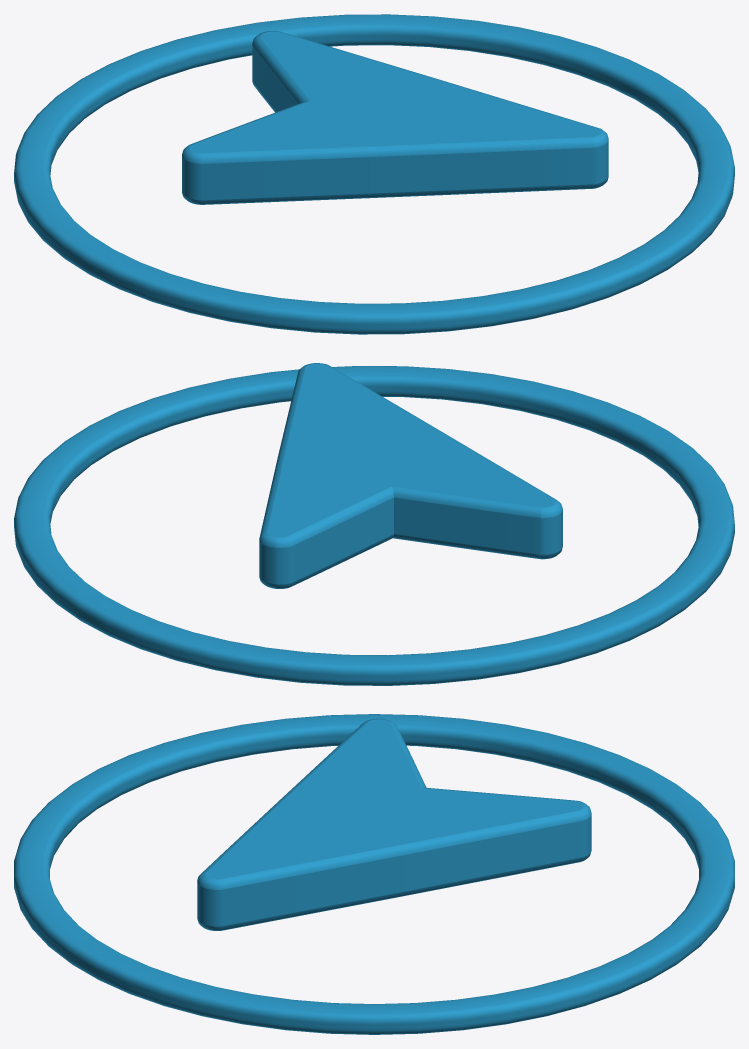
Rendered from Linh_ARROW_V001_3D.fbx.
3 renders of one model, top to bottom at view 1: azimuth 30°, elevation 25°; view 2: azimuth 150°, elevation 25°; view 3: azimuth 270°, elevation 25°, orthographic.
Visible parts, largest first — view 1: ARROW_1; view 2: ARROW_1; view 3: ARROW_1.
Part boxes in pixels (x1,y1,x2,y2): ARROW_1: (14, 14, 734, 334); ARROW_1: (14, 363, 734, 685); ARROW_1: (14, 714, 734, 1034).
Size of the model in its own units: 515 by 60.42 by 514.
